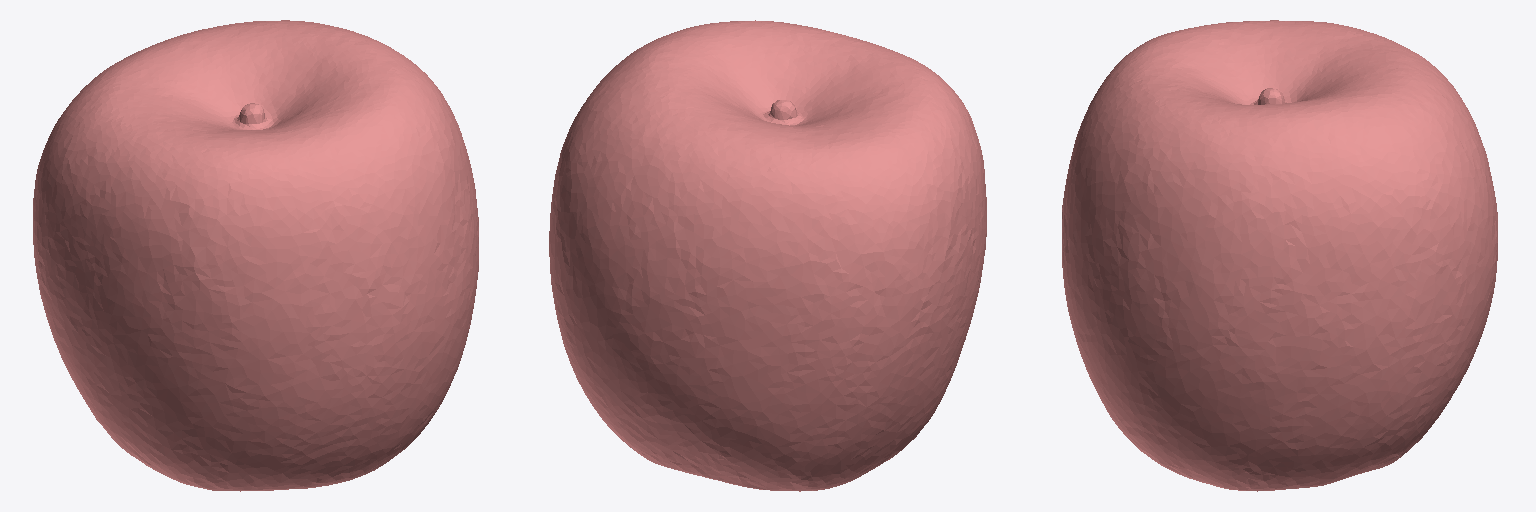
robot.urdf — model.urdf:
<?xml version="1.0" ?>
<robot name="model.urdf">
  <link name="baseLink">
    <contact>
      <friction_anchor/>
      <lateral_friction value="0.3"/>
      <rolling_friction value="0.0"/>
      <contact_cfm value="0.0"/>
      <contact_erp value="1.0"/>
    </contact>
    <inertial>
      <origin rpy="0 0 0" xyz="0 0 0"/>
      <mass value="0.1"/>
      <inertia ixx="3.e-04" ixy="0" ixz="0" iyy="1.6e-04" iyz="0" izz="3.e-04"/>
    </inertial>
    <visual>
      <geometry>
        <mesh filename="textured.dae" scale="1 1 1"/>
      </geometry>
      <material name="red">
        <color rgba="0.9 0.6 0.6 1."/>
      </material>
    </visual>
    <collision>
      <geometry>
    	 	<mesh filename="textured.dae" scale="1 1 1"/>
      </geometry>
    </collision>
  </link>
</robot>

--- Facts derived from the render (not from the file) ---
3 views of the same robot in one strip: view 1: azimuth 30°, elevation 25°; view 2: azimuth 150°, elevation 25°; view 3: azimuth 270°, elevation 25° (orthographic).
Model model.urdf with 1 links and 0 joints (none), rooted at baseLink, posed all joints at 0.
Links seen in each view (by area): view 1: baseLink; view 2: baseLink; view 3: baseLink.
Boxes of the visible links, left/top/right/bottom form: baseLink: left=33, top=20, right=478, bottom=491; baseLink: left=549, top=20, right=986, bottom=491; baseLink: left=1062, top=20, right=1497, bottom=491.
Size in the robot's own frame: 0.0754 by 0.0749 by 0.0719 metres.
1 mesh visuals loaded from 1 distinct referenced files (1 Collada DAE).